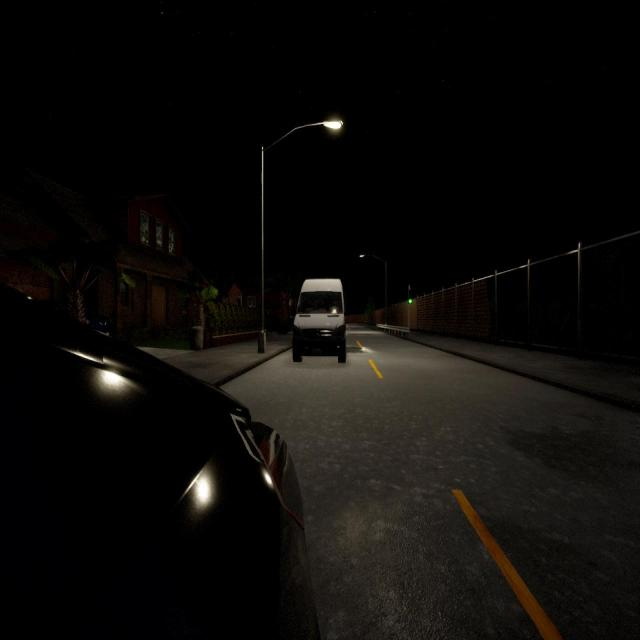Vehicle: (0, 283, 319, 638), (288, 279, 351, 363)
traffic_light: (408, 289, 413, 305)
